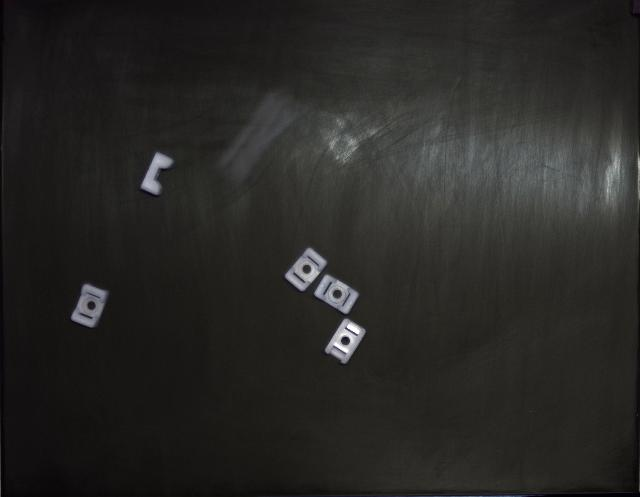first_side: (285, 248, 328, 291), (314, 275, 359, 315), (71, 284, 109, 329)
second_side: (325, 319, 366, 364)
third_side: (140, 152, 175, 196)
